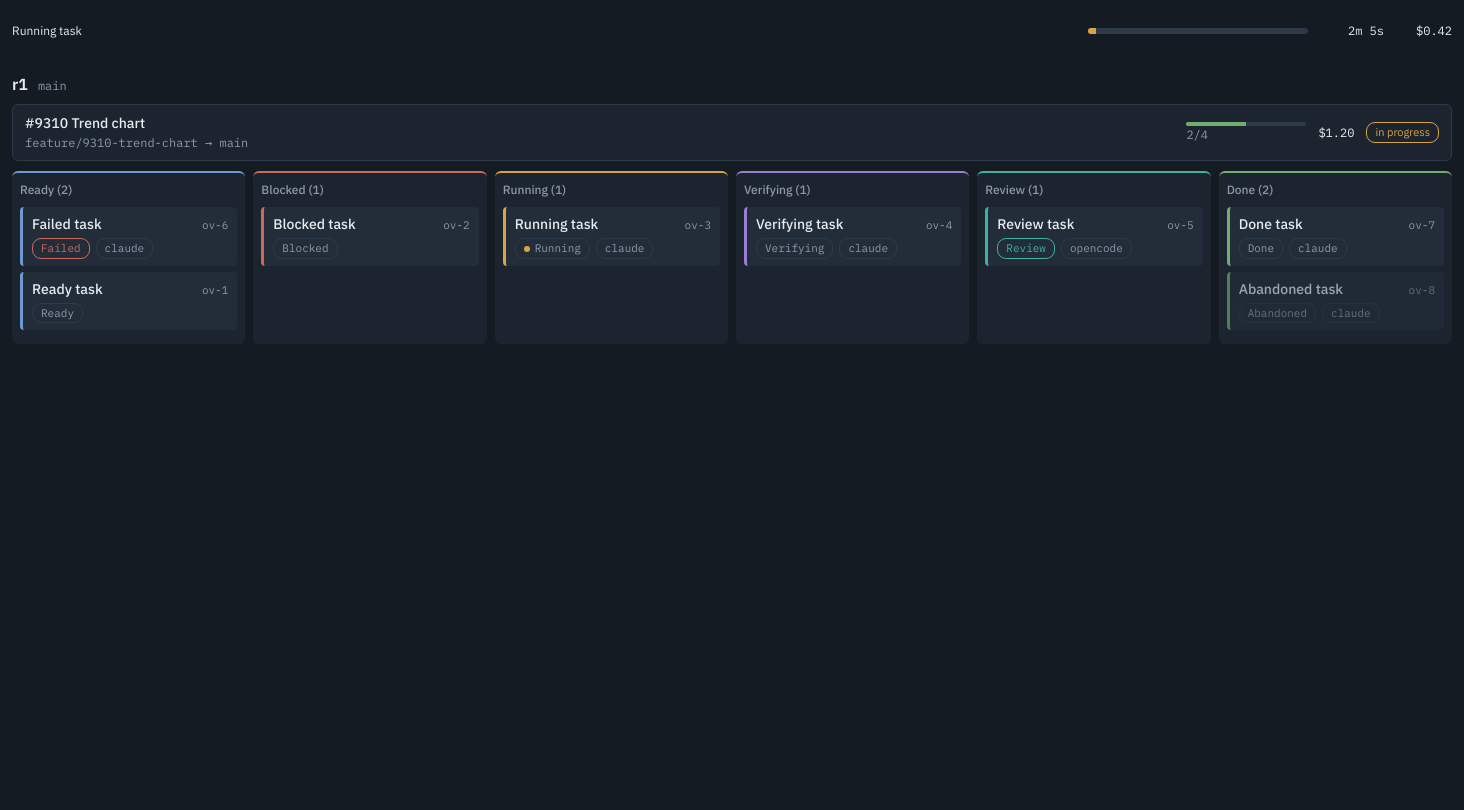
Scenario: Board › reports a failed stop and keeps the button
Click the 2nd text "Running task" at (556, 224), box [515,215,598,233]
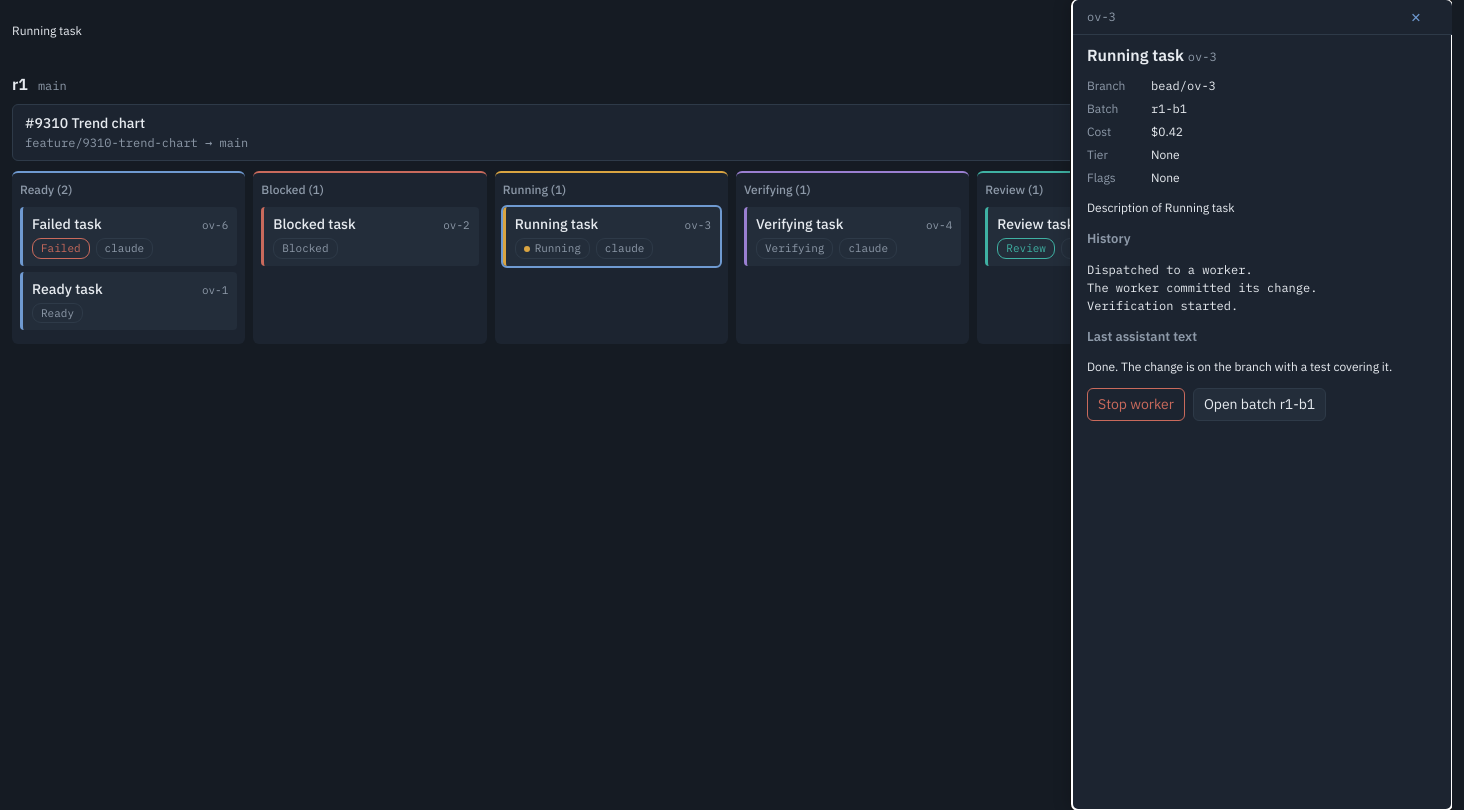
Click the button "Stop worker" at (1136, 404), box [1087,388,1185,421]
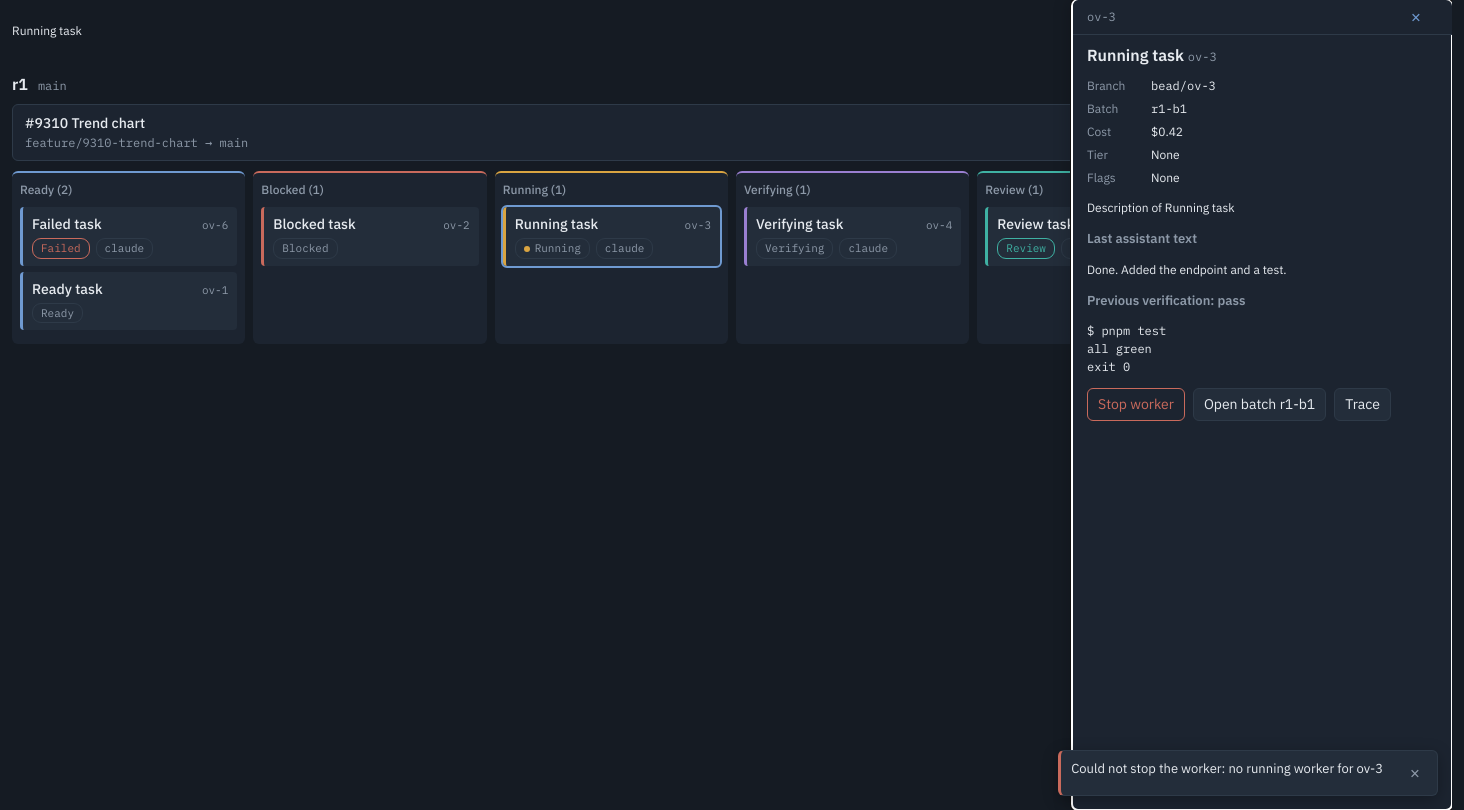
Expected: the button "Stop worker" is shown, [1087,388,1185,421]
Expected: the text with class "toast-text" reads "Could not stop the worker: no running worker for ov-3", [1071,760,1383,777]
